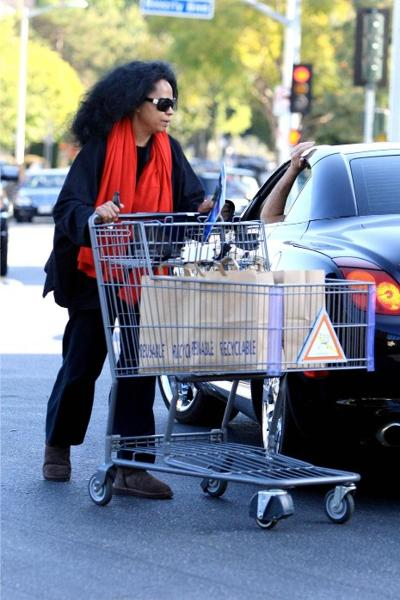person: (41, 59, 218, 499)
